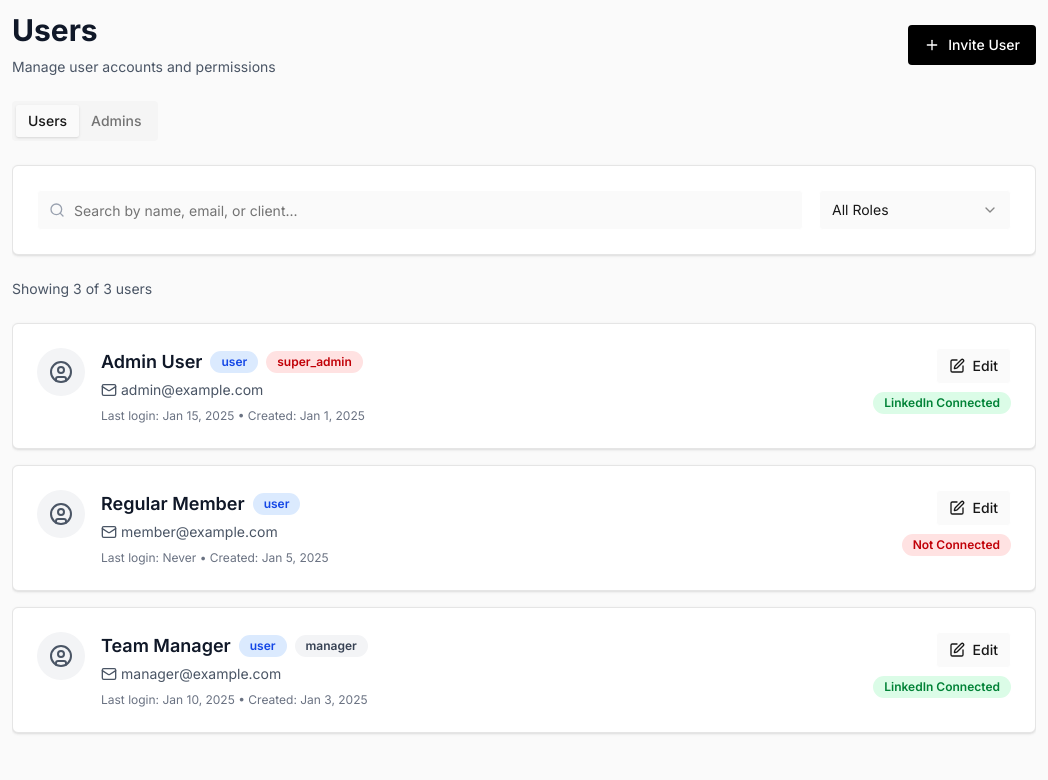
Test: Admin Users Page › Search Functionality › should filter users by name
This screenshot has width=1048, height=780.
Expected: the heading "Regular Member" is shown, [101,490,245,518]
Type "Regular" into the field with placeholder "Search by name, email, or client...".
click(420, 210); type("Regular")  # box [37,190,803,230]
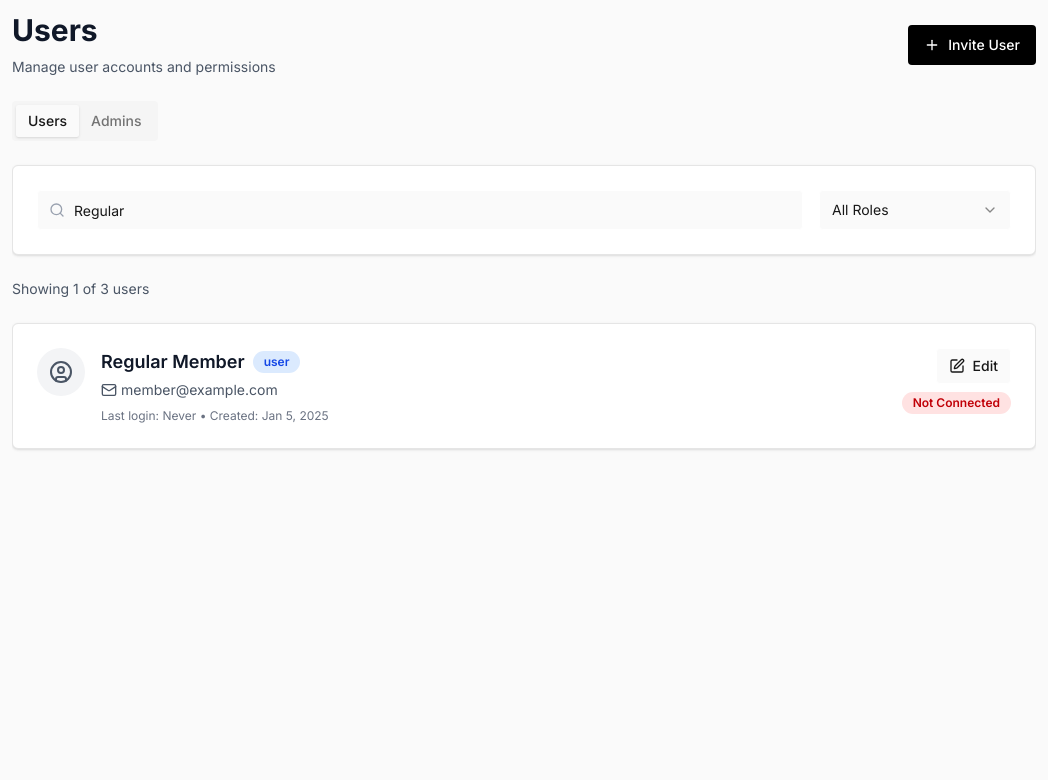
Expected: the heading "Regular Member" is shown, [101,348,245,376]
Expected: the heading "Admin User" is gone
Expected: the heading "Team Manager" is gone
